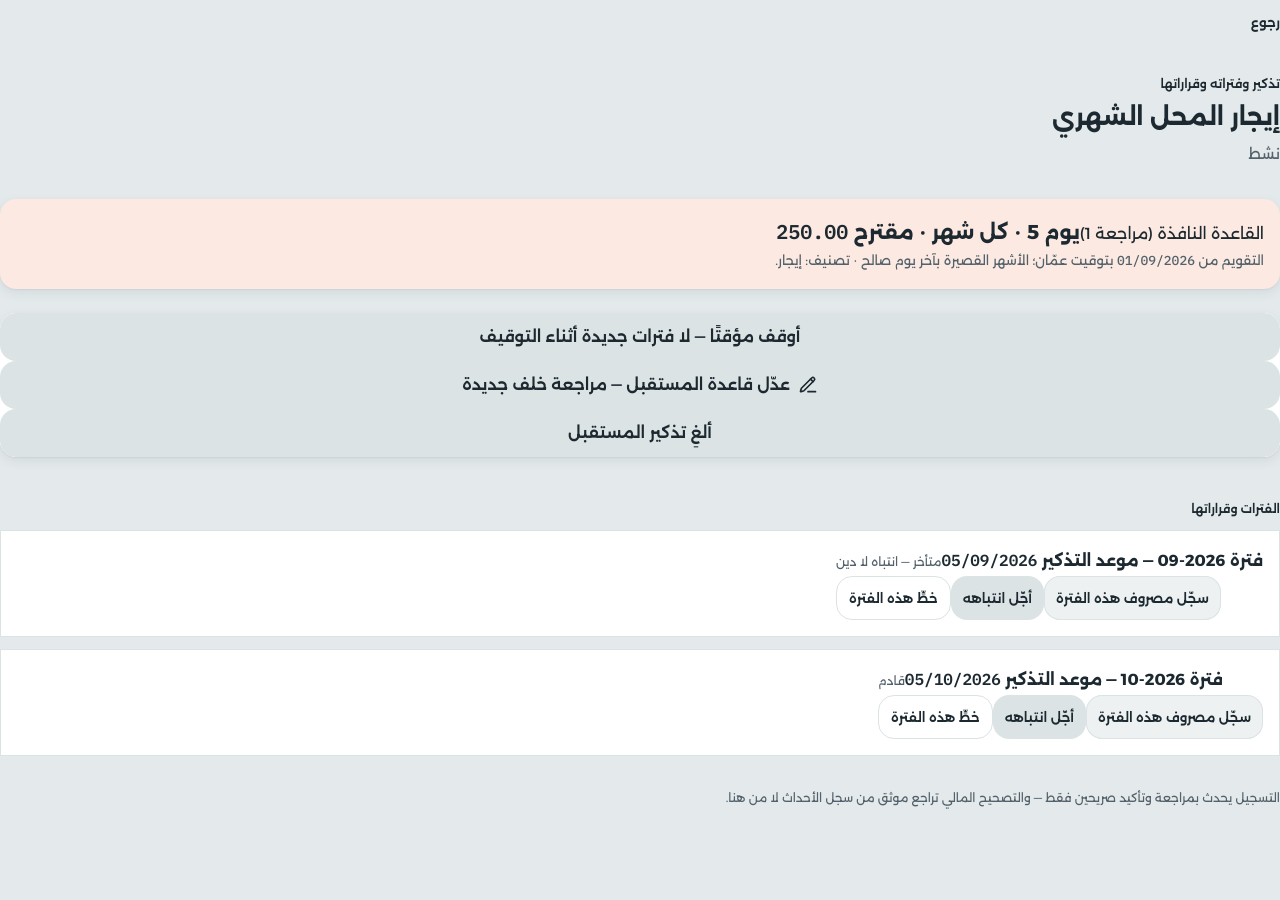
Test: OPS-003 — لوحة التأكيد (DOM) › معاينة الأثر قبل التأكيد وتسمية «تاريخ حدوث المصروف» متمايزة عن موعد التذكير
The width and height of the screenshot is (1280, 900).
Click the button "سجّل مصروف هذه الفترة" below "2026-09". click: (1133, 598)
box: [1044,576,1221,620]
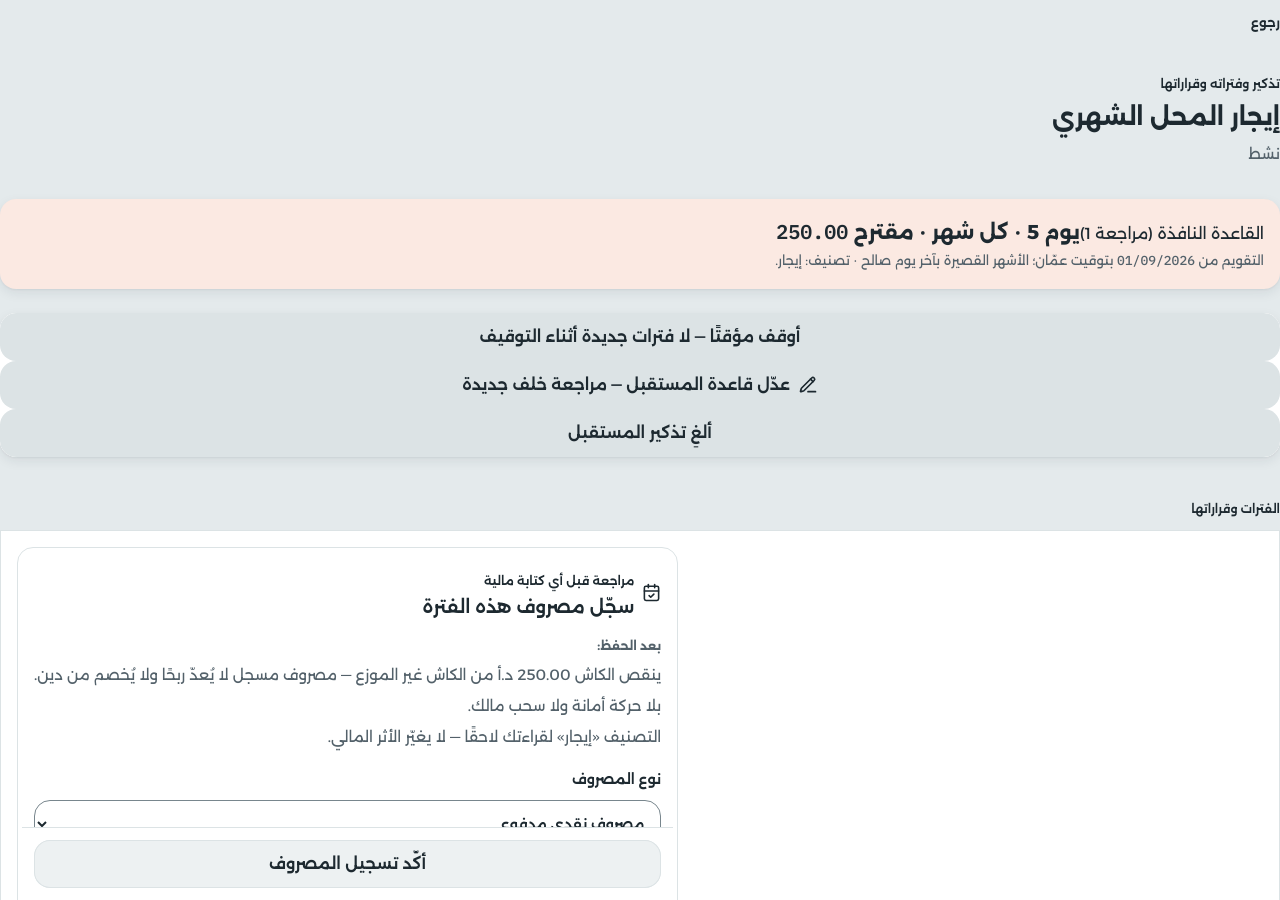
Expected: the text "بعد الحفظ:" is shown, [597,638,661,653]
